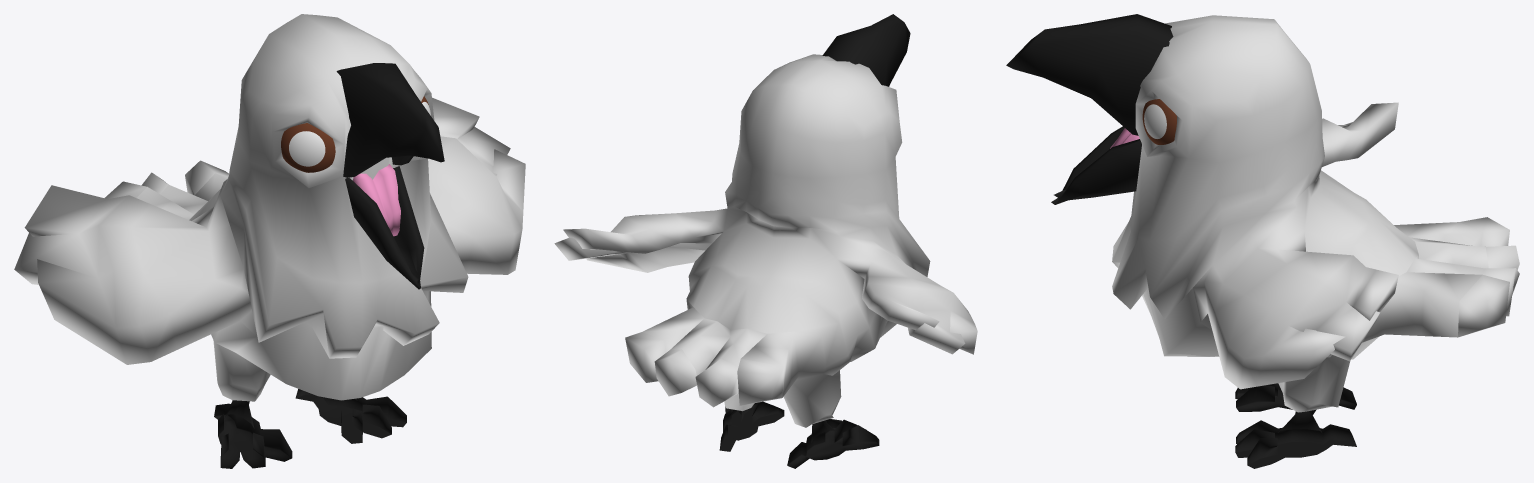
Rendered from crow_rig.glb.
The picture shows the model from 3 angles, left to right: view 1: azimuth 30°, elevation 25°; view 2: azimuth 150°, elevation 25°; view 3: azimuth 270°, elevation 25°; orthographic projection. The views are drawn at different scales.
Visible parts, largest first — view 1: body, beak; view 2: body, beak; view 3: body, beak.
Part boxes in pixels (<box>): body: <box>14,14,525,468</box>; beak: <box>336,63,444,289</box>; body: <box>554,54,977,468</box>; beak: <box>822,14,910,86</box>; body: <box>1112,15,1519,468</box>; beak: <box>1006,14,1173,204</box>.
Size of the model in its own units: 5.17 by 4.24 by 4.88.
